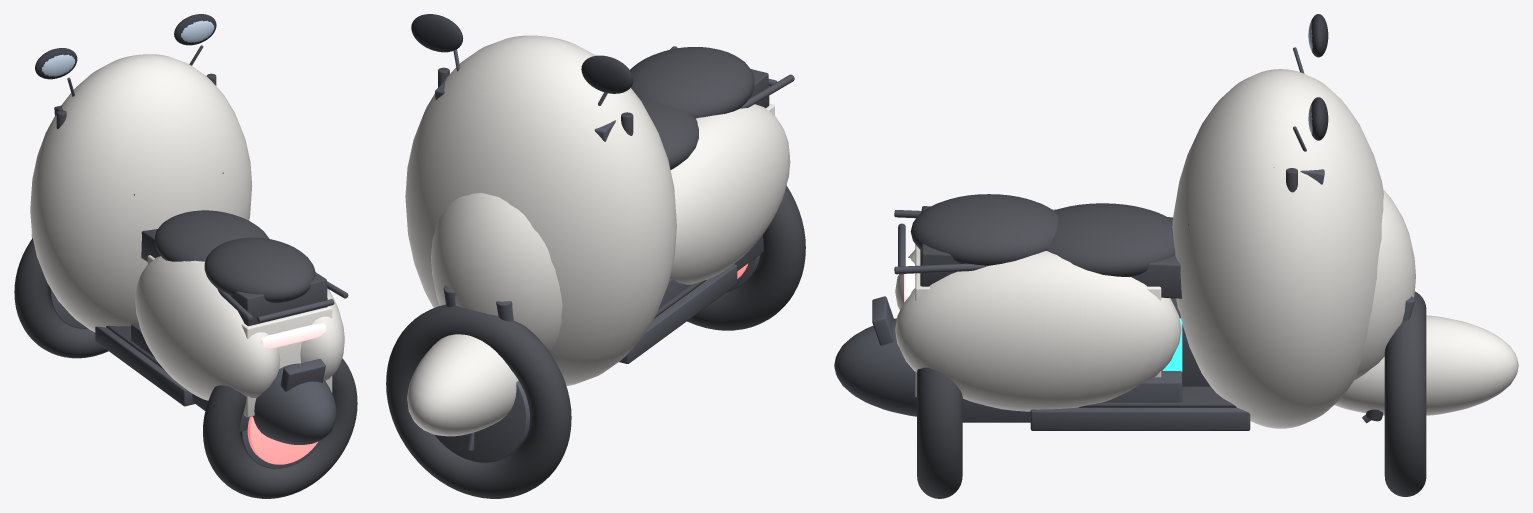
The model's file is etwin_scooter.glb.
3 renders of one model, left to right at view 1: azimuth 30°, elevation 25°; view 2: azimuth 150°, elevation 25°; view 3: azimuth 270°, elevation 25°, orthographic. The views are drawn at different scales.
Visible parts, largest first — view 1: Body_Front_Apron_Main, Body_Side_Panel_L, Wheel_Rear_Tire, Seat_Contour_Pillion, Body_Fender_Rear, Wheel_Front_Tire, Seat_Contour_Rider, Seat_Base_Cushion, Chassis_Floorboard_Base, Body_Center_Cover, Body_Side_Panel_R, Wheel_Rear_Hub_Motor (+11 smaller); view 2: Body_Front_Apron_Main, Wheel_Front_Tire, Body_Side_Panel_L, Body_Front_Nose_Cone, Body_Fender_Front, Seat_Contour_Pillion, Wheel_Rear_Tire, Wheel_Front_Rim, Chassis_Floorboard_Base, Seat_Contour_Rider, Mirror_Housing_-1, Mirror_Housing_1 (+2 smaller); view 3: Body_Front_Apron_Main, Body_Side_Panel_R, Body_Fender_Front, Seat_Contour_Pillion, Wheel_Front_Tire, Seat_Contour_Rider, Wheel_Rear_Tire, Chassis_Floorboard_Base, Body_Front_Nose_Cone, Body_Fender_Rear, Body_Lower_Skirt, Seat_Base_Cushion (+3 smaller).
Boxes of the visible parts, box(x1,y1,x2,y2) form: Body_Front_Apron_Main: box(30, 54, 252, 332); Body_Side_Panel_L: box(135, 256, 280, 400); Wheel_Rear_Tire: box(203, 358, 357, 498); Seat_Contour_Pillion: box(204, 237, 315, 302); Body_Fender_Rear: box(253, 363, 336, 444); Wheel_Front_Tire: box(14, 238, 108, 358); Seat_Contour_Rider: box(154, 210, 269, 261); Seat_Base_Cushion: box(141, 229, 327, 325); Chassis_Floorboard_Base: box(95, 326, 194, 406); Body_Center_Cover: box(147, 255, 332, 417); Body_Side_Panel_R: box(300, 271, 344, 380); Wheel_Rear_Hub_Motor: box(247, 416, 317, 464); Body_Front_Apron_Main: box(405, 35, 676, 386); Wheel_Front_Tire: box(386, 304, 571, 498); Body_Side_Panel_L: box(670, 104, 790, 284); Body_Front_Nose_Cone: box(431, 193, 562, 352); Body_Fender_Front: box(407, 334, 518, 436); Seat_Contour_Pillion: box(630, 47, 754, 118); Wheel_Rear_Tire: box(687, 185, 805, 330); Wheel_Front_Rim: box(434, 381, 529, 462); Chassis_Floorboard_Base: box(619, 264, 737, 363); Seat_Contour_Rider: box(640, 99, 698, 169); Mirror_Housing_-1: box(581, 55, 633, 93); Mirror_Housing_1: box(411, 14, 463, 52); Body_Front_Apron_Main: box(1172, 69, 1383, 428); Body_Side_Panel_R: box(895, 251, 1181, 411); Body_Fender_Front: box(1334, 315, 1518, 415); Seat_Contour_Pillion: box(910, 194, 1058, 265); Wheel_Front_Tire: box(1384, 291, 1426, 496); Seat_Contour_Rider: box(1046, 203, 1175, 277); Wheel_Rear_Tire: box(917, 367, 962, 498); Chassis_Floorboard_Base: box(1030, 407, 1250, 430); Body_Front_Nose_Cone: box(1354, 190, 1415, 379); Body_Fender_Rear: box(834, 318, 916, 416); Body_Lower_Skirt: box(962, 371, 1182, 422); Seat_Base_Cushion: box(920, 206, 1181, 298).
Bounding box in the file's own units: 0.7616 × 1.25 × 1.81.
